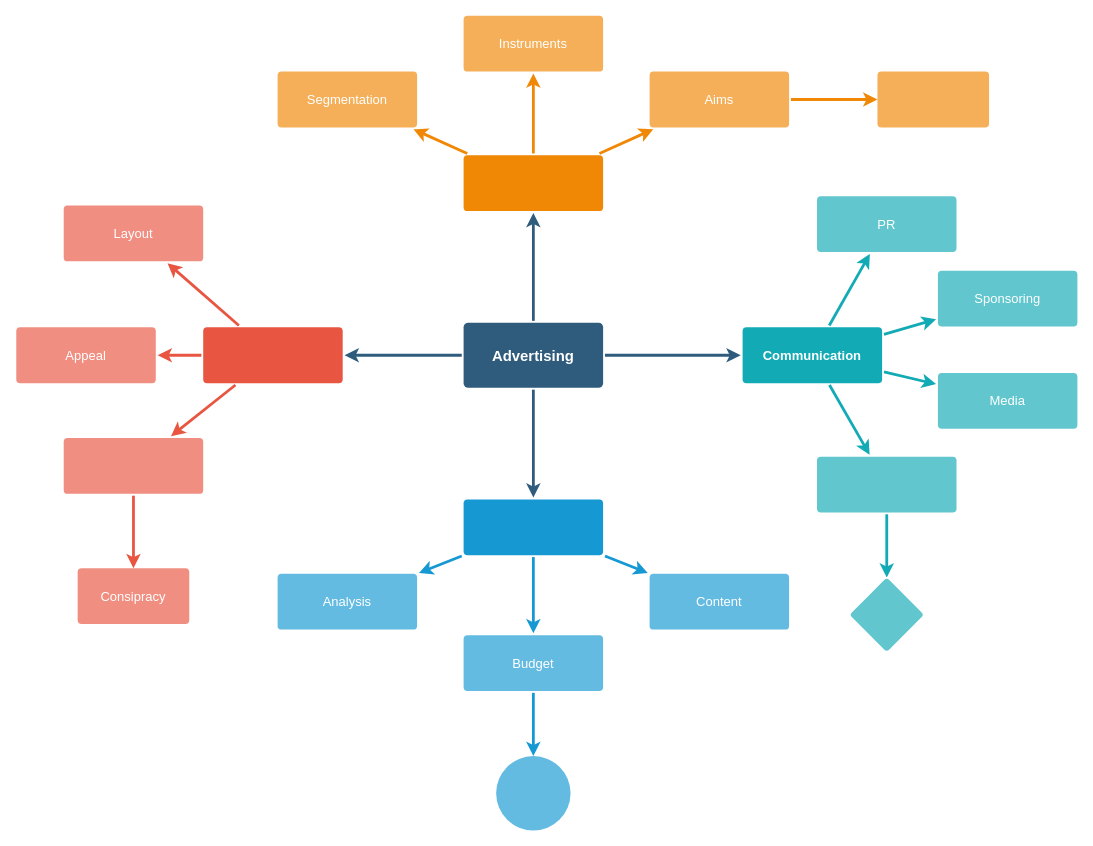
This 1093x846 diagram has some shape labels left out. Here are the shapes that lost their labels. From the top down, the centre of each, then its label:
[933,99]: Eats Shoots and Leaves
[533,183]: Marketing
[272,355]: Embassy
[133,465]: Theories
[886,484]: Events
[533,527]: Organization
[533,793]: Small
